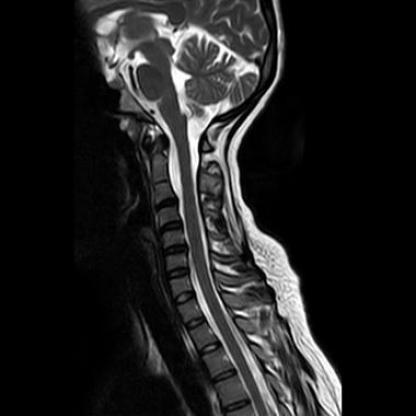Disc Bulgerotation: (163, 243, 190, 257), (166, 267, 190, 280), (172, 292, 196, 304)
